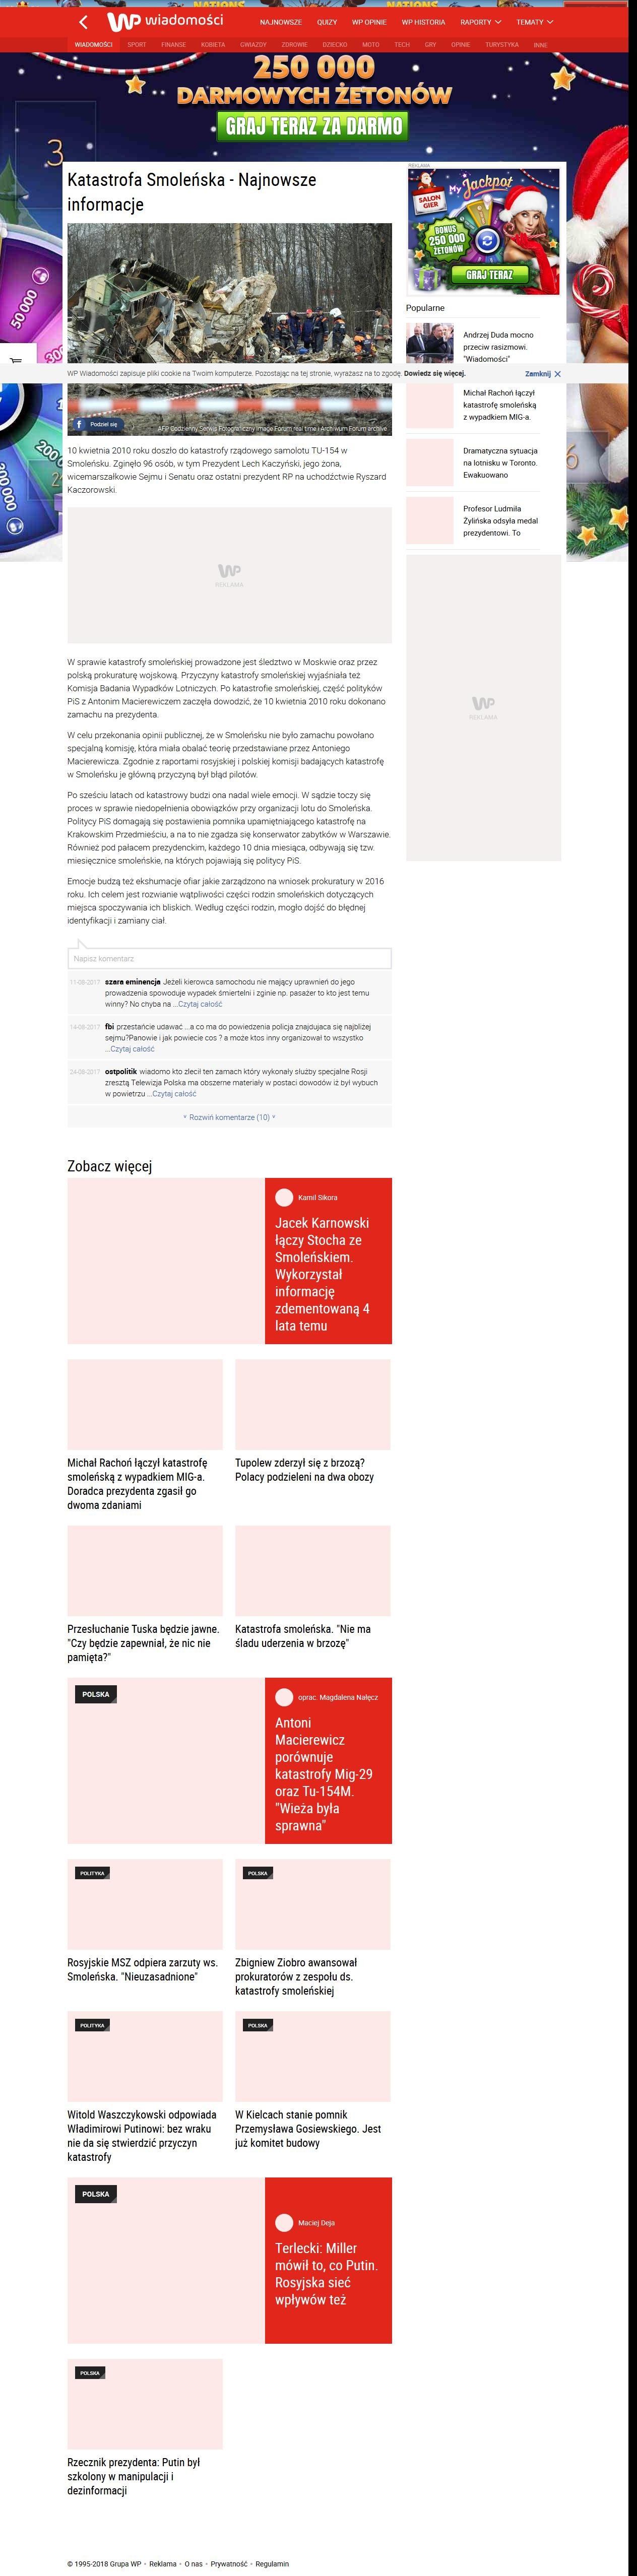title: (66, 171, 317, 215)
